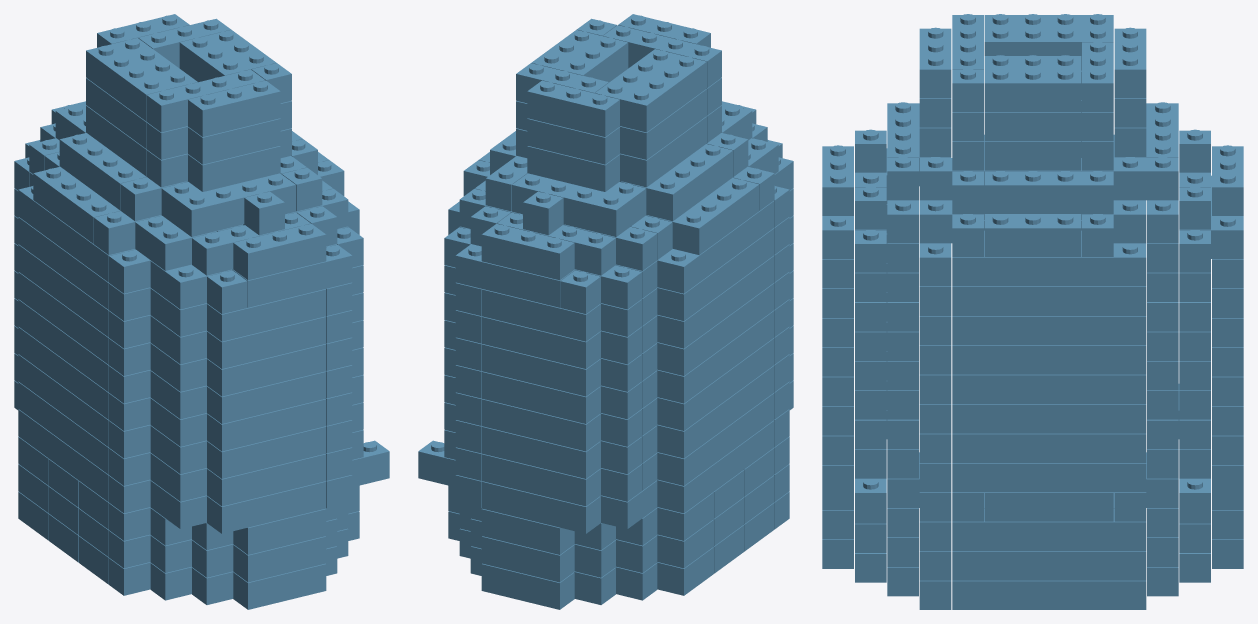
Rendered from 089_bottle_L4.glb.
3 views of the same model, side by side, from view 1: azimuth 30°, elevation 25°; view 2: azimuth 150°, elevation 25°; view 3: azimuth 270°, elevation 25° (orthographic). The views are drawn at different scales.
Size of the model in its own units: 8.98 by 17.13 by 12.98.
